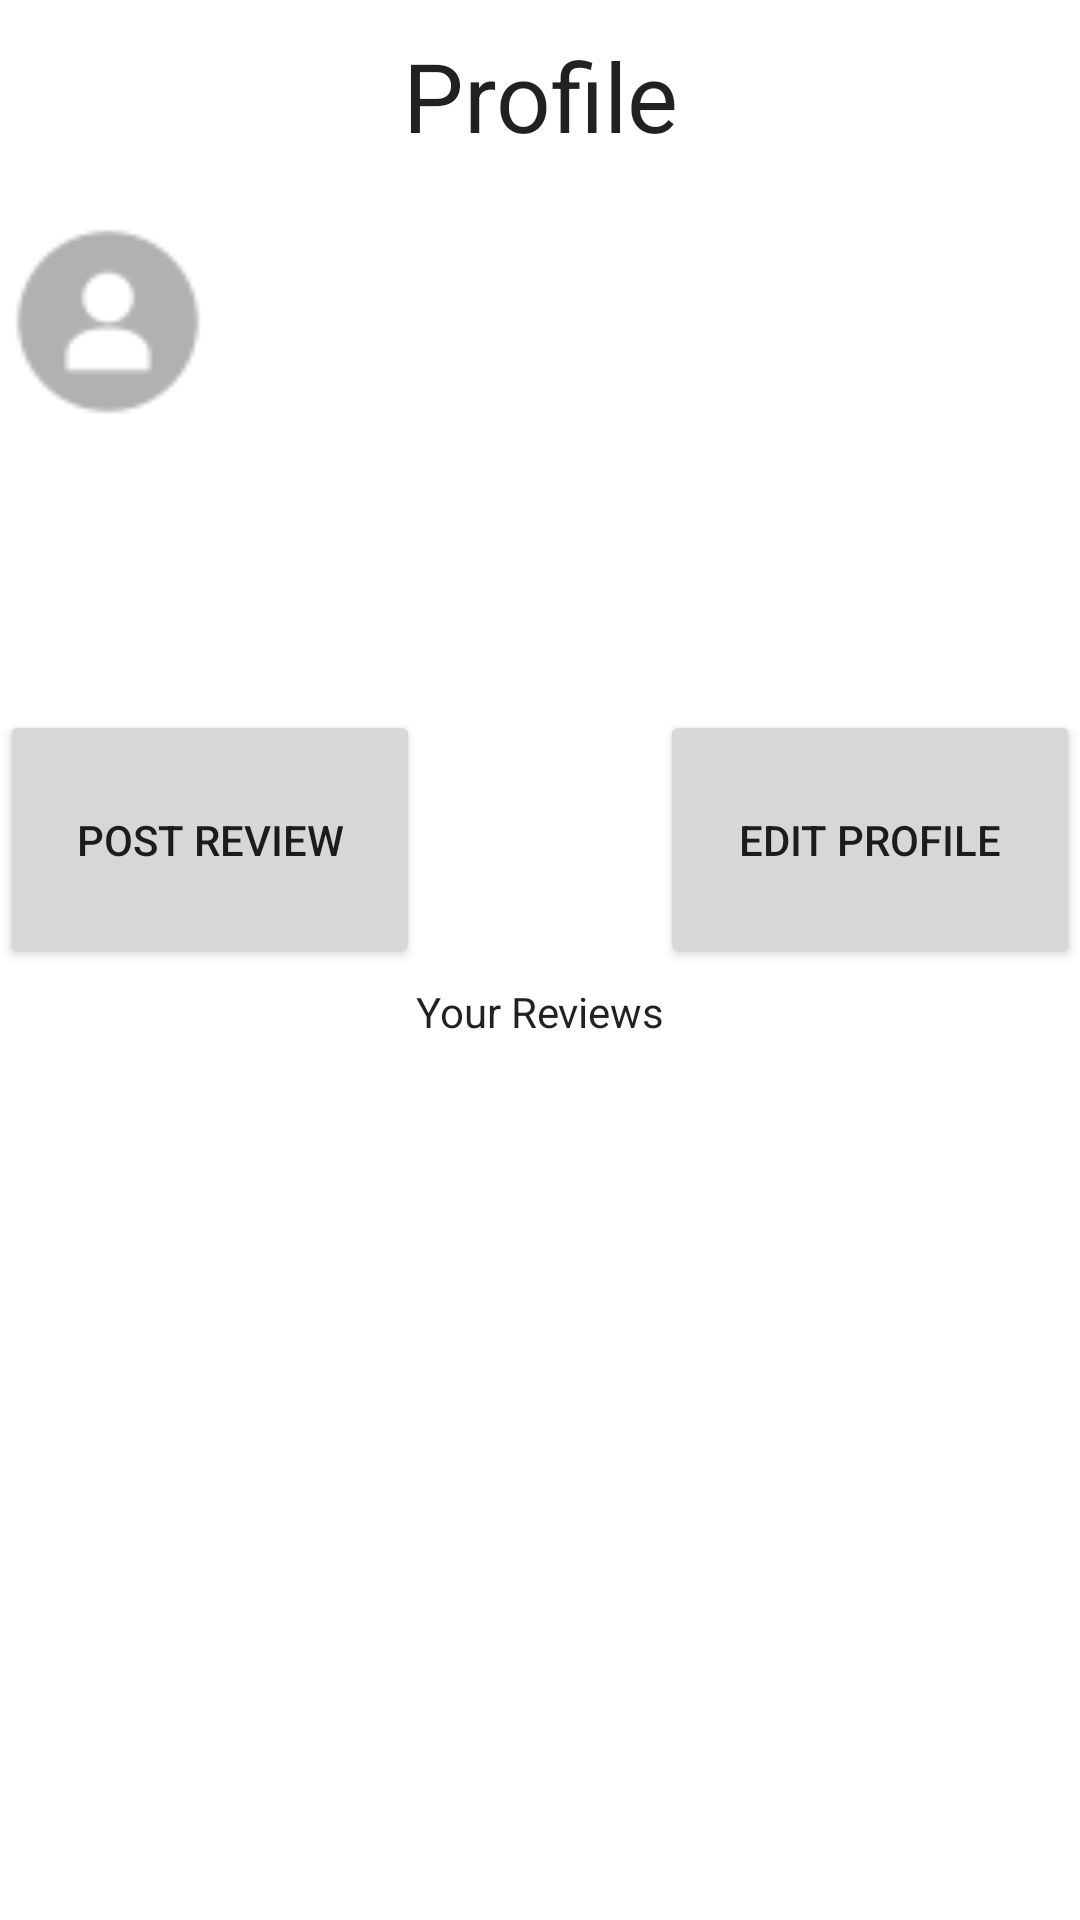

Icon click points for this 1080*1920 phone screenshot, format (x,y):
defaultpic: (108,321)
